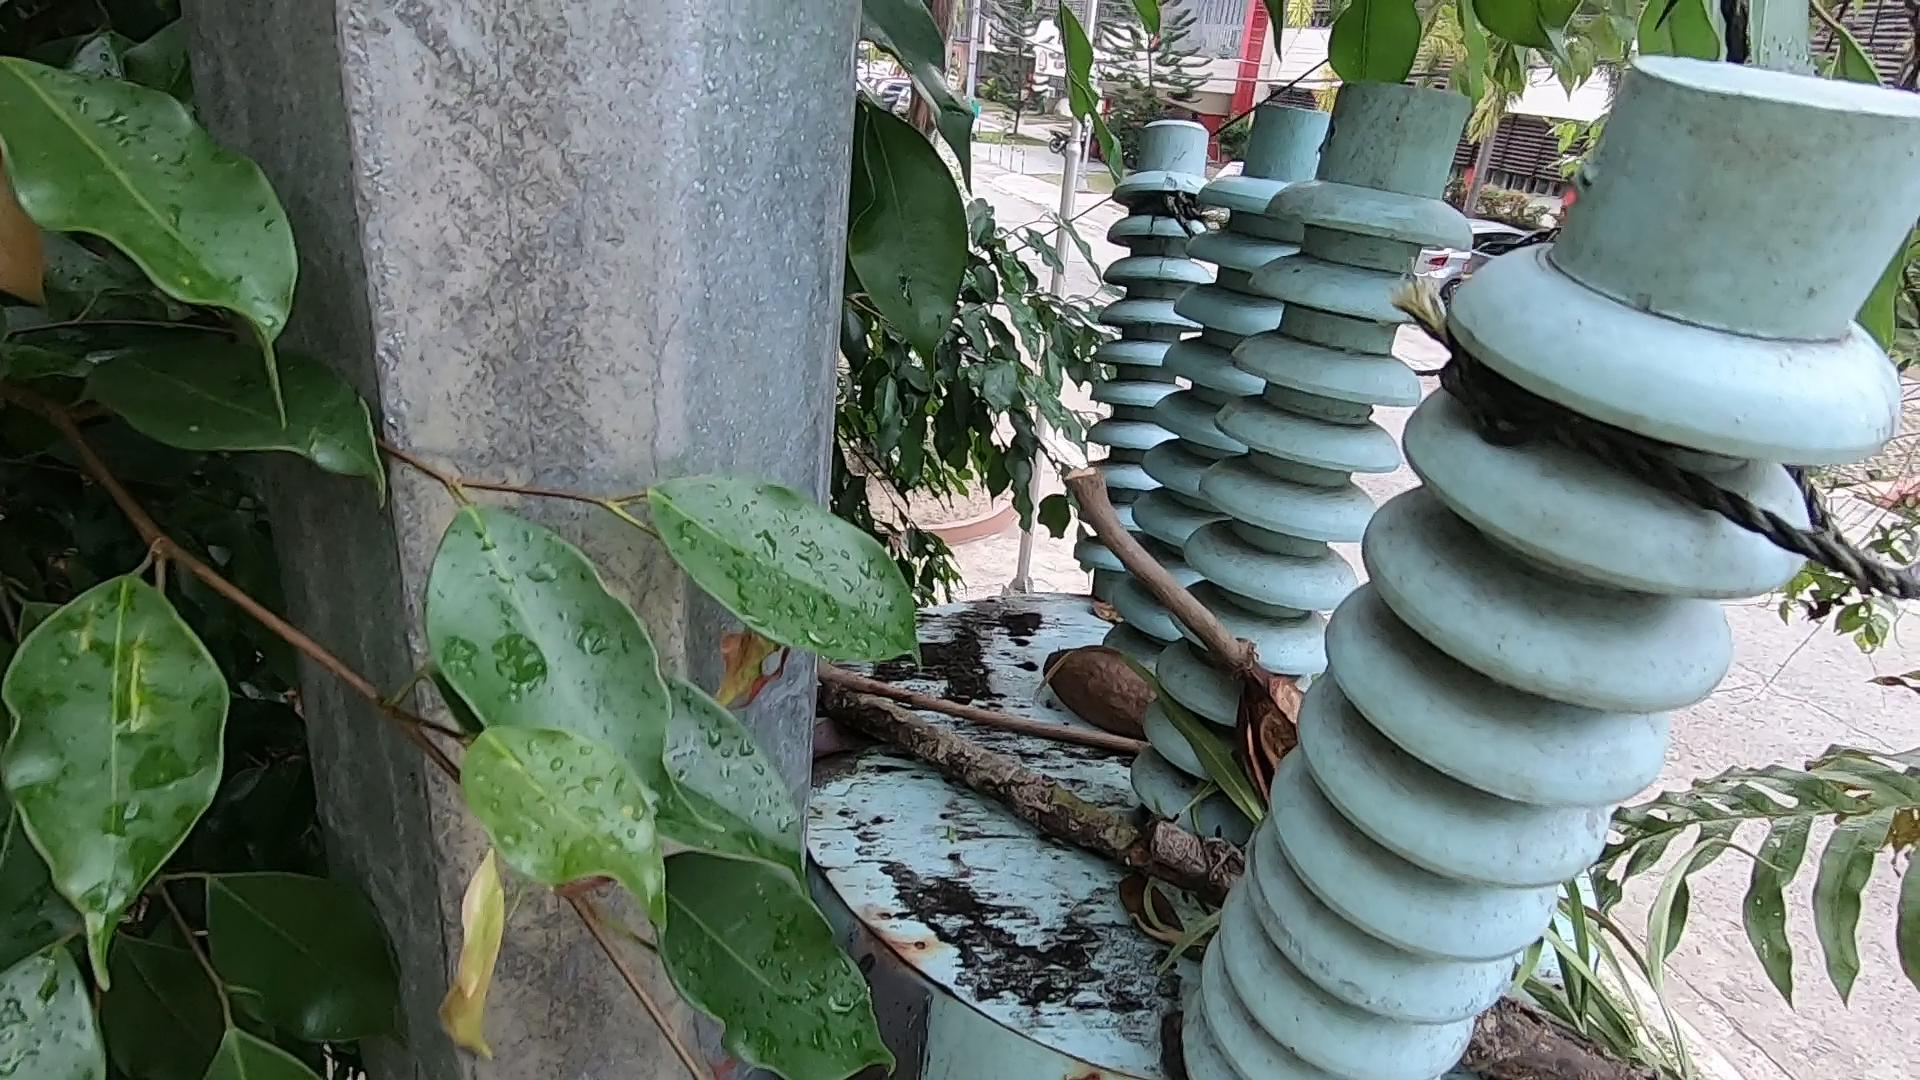branch with leaves: (812, 671, 1676, 1080)
leaf: (1072, 571, 1174, 723)
tree branch: (1060, 455, 1295, 728), (835, 671, 1166, 767)
